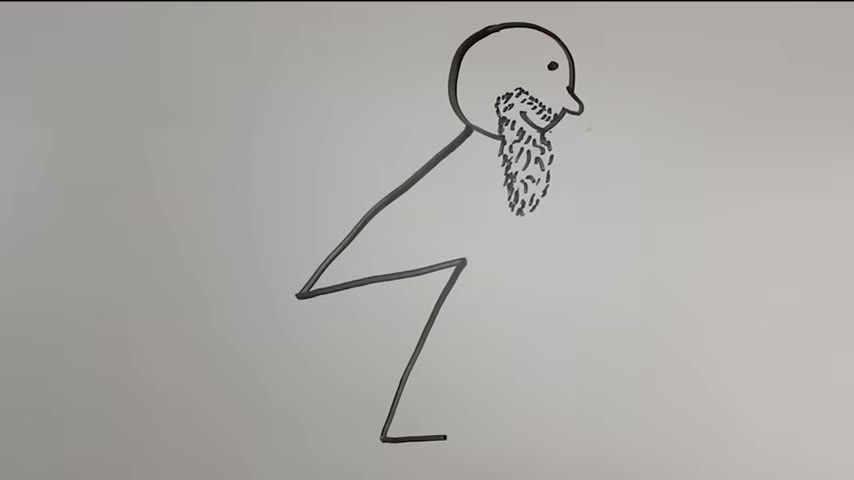barbell_plate_side: (529, 21, 585, 221)
